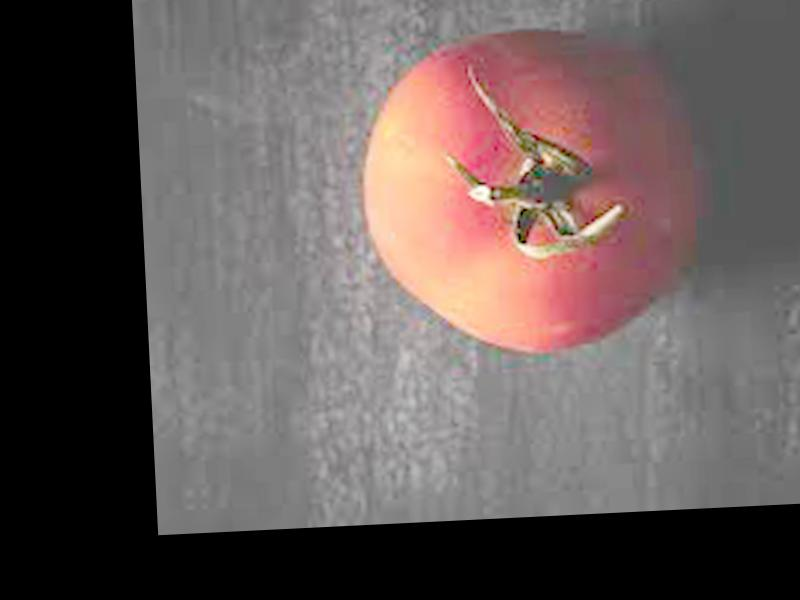Tomato: (354, 26, 705, 360)
